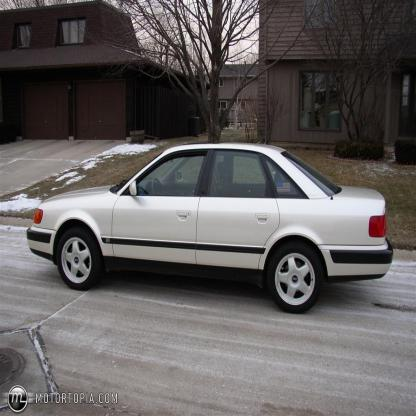Vehicle: (25, 141, 396, 318)
